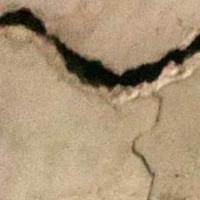crack: (0, 0, 199, 139)
